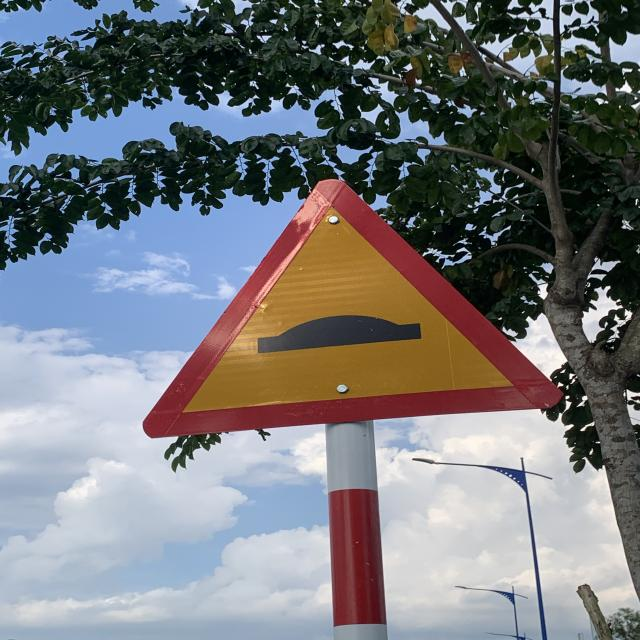Duong_Cong_Ben_Phai: (140, 177, 564, 444)
